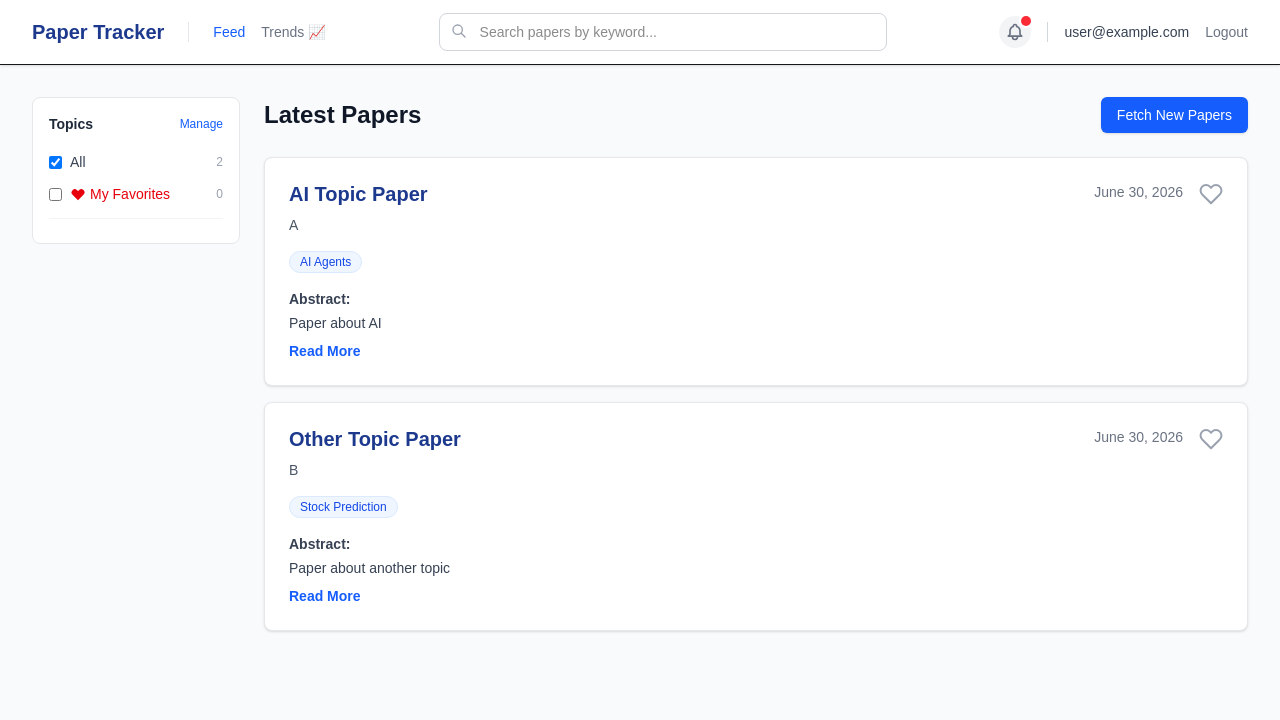
Test: Dashboard notifications › marks one notification read on click without removing it from the list
The width and height of the screenshot is (1280, 720).
Click the button named "notifications". click: (1016, 32)
box: [1000,16,1032,48]
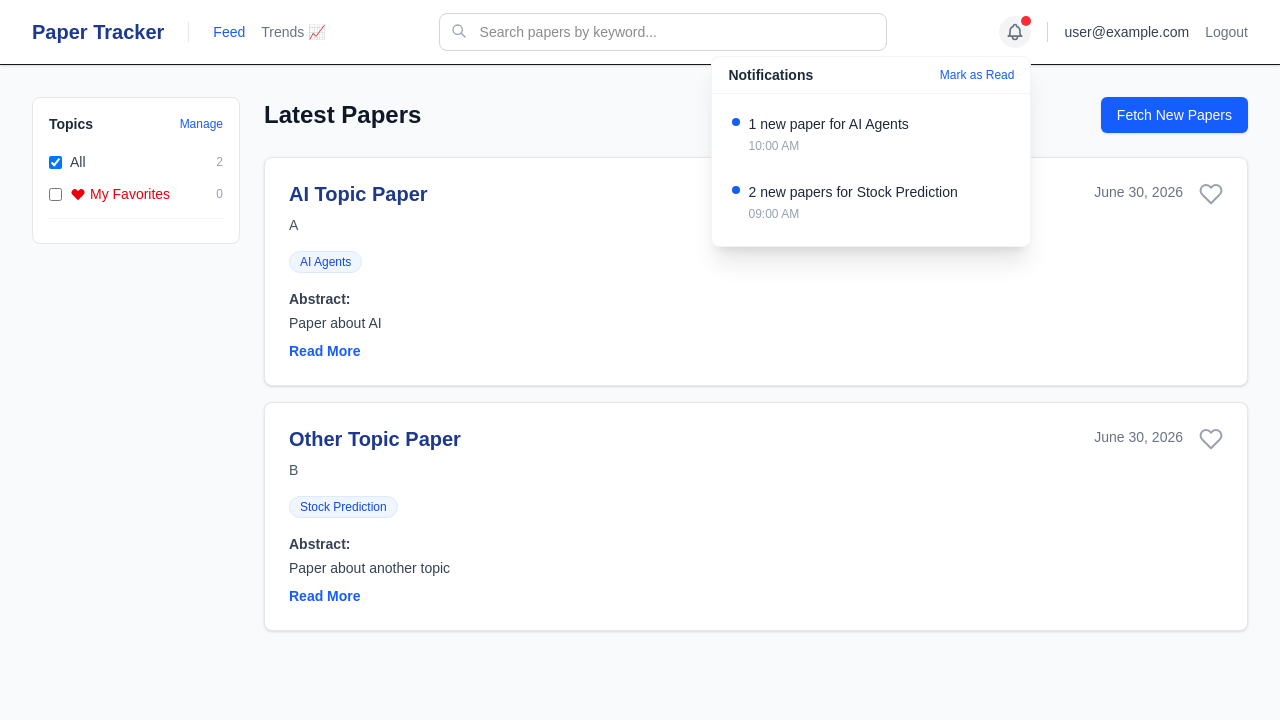
Now the button "1 new paper for AI Agents 10:00 AM" is shown
Click the button "1 new paper for AI Agents 10:00 AM". click: (872, 134)
box: [720,102,1022,166]
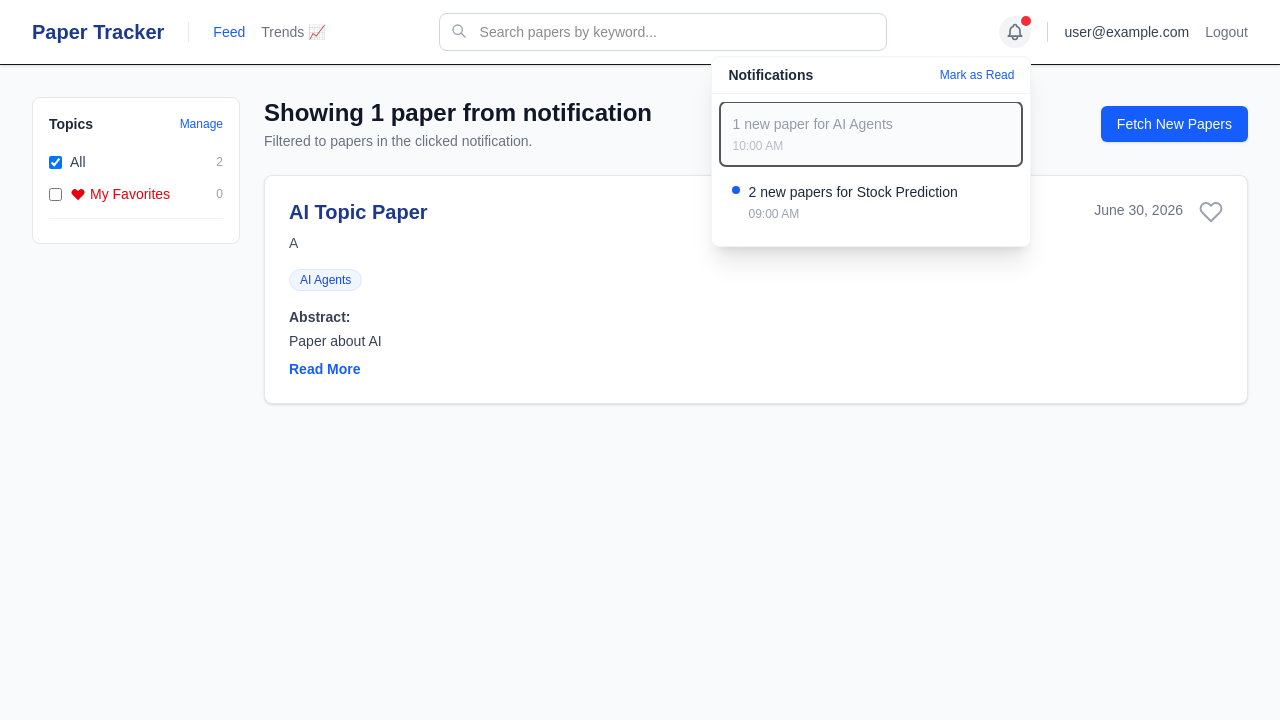
Now the text "1 new paper for AI Agents" is shown, box [732,114,893,134]
Now the link "Other Topic Paper" is gone
Now the heading "Showing 1 paper from notification" is shown, box [264,97,652,129]
